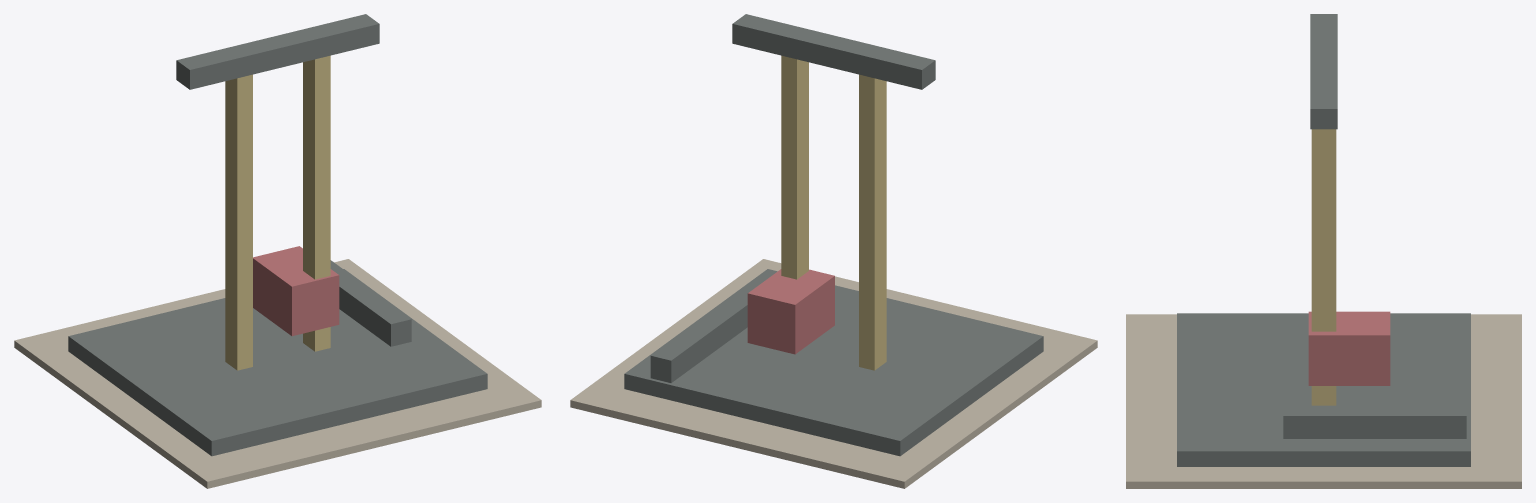
The model's file is oil_well_2x2.glb.
3 views of the same model, side by side, from view 1: azimuth 30°, elevation 25°; view 2: azimuth 150°, elevation 25°; view 3: azimuth 270°, elevation 25° (orthographic). The views are drawn at different scales.
Visible parts, largest first — view 1: oil_well_2x2; view 2: oil_well_2x2; view 3: oil_well_2x2.
Part boxes in pixels (x1=…): oil_well_2x2: x1=14, y1=14, x2=541, y2=488; oil_well_2x2: x1=570, y1=14, x2=1097, y2=488; oil_well_2x2: x1=1126, y1=14, x2=1521, y2=488.
Size of the model in its own units: 3.88 by 3.72 by 3.88.
